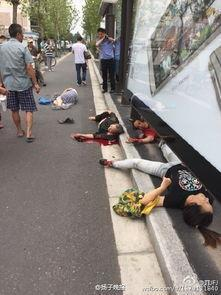Fall-Detected: (46, 81, 82, 107)
